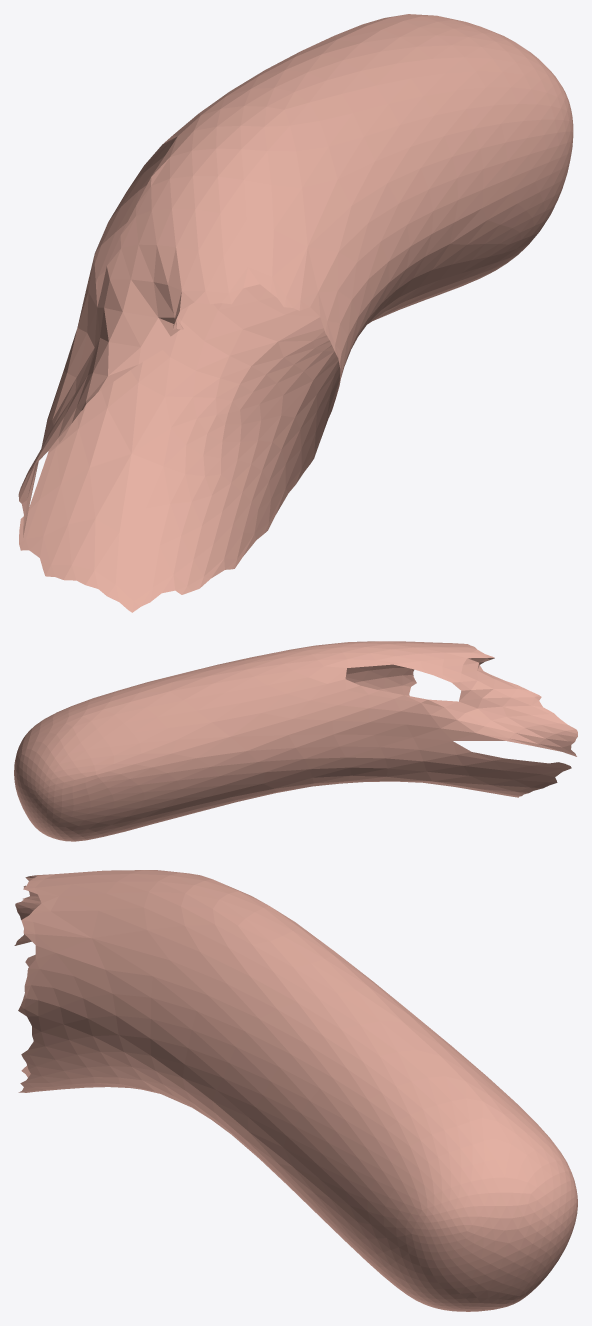
Rendered from appendice_interno.glb.
3 renders of one model, top to bottom at view 1: azimuth 30°, elevation 25°; view 2: azimuth 150°, elevation 25°; view 3: azimuth 270°, elevation 25°, orthographic. The views are drawn at different scales.
Visible parts, largest first — view 1: appendix; view 2: appendix; view 3: appendix.
Part boxes in pixels (left/top/right/bottom): appendix: left=18, top=14, right=573, bottom=612; appendix: left=14, top=641, right=577, bottom=841; appendix: left=14, top=870, right=577, bottom=1311.
Bounding box in the file's own units: 25.2 × 10.09 × 19.25.
